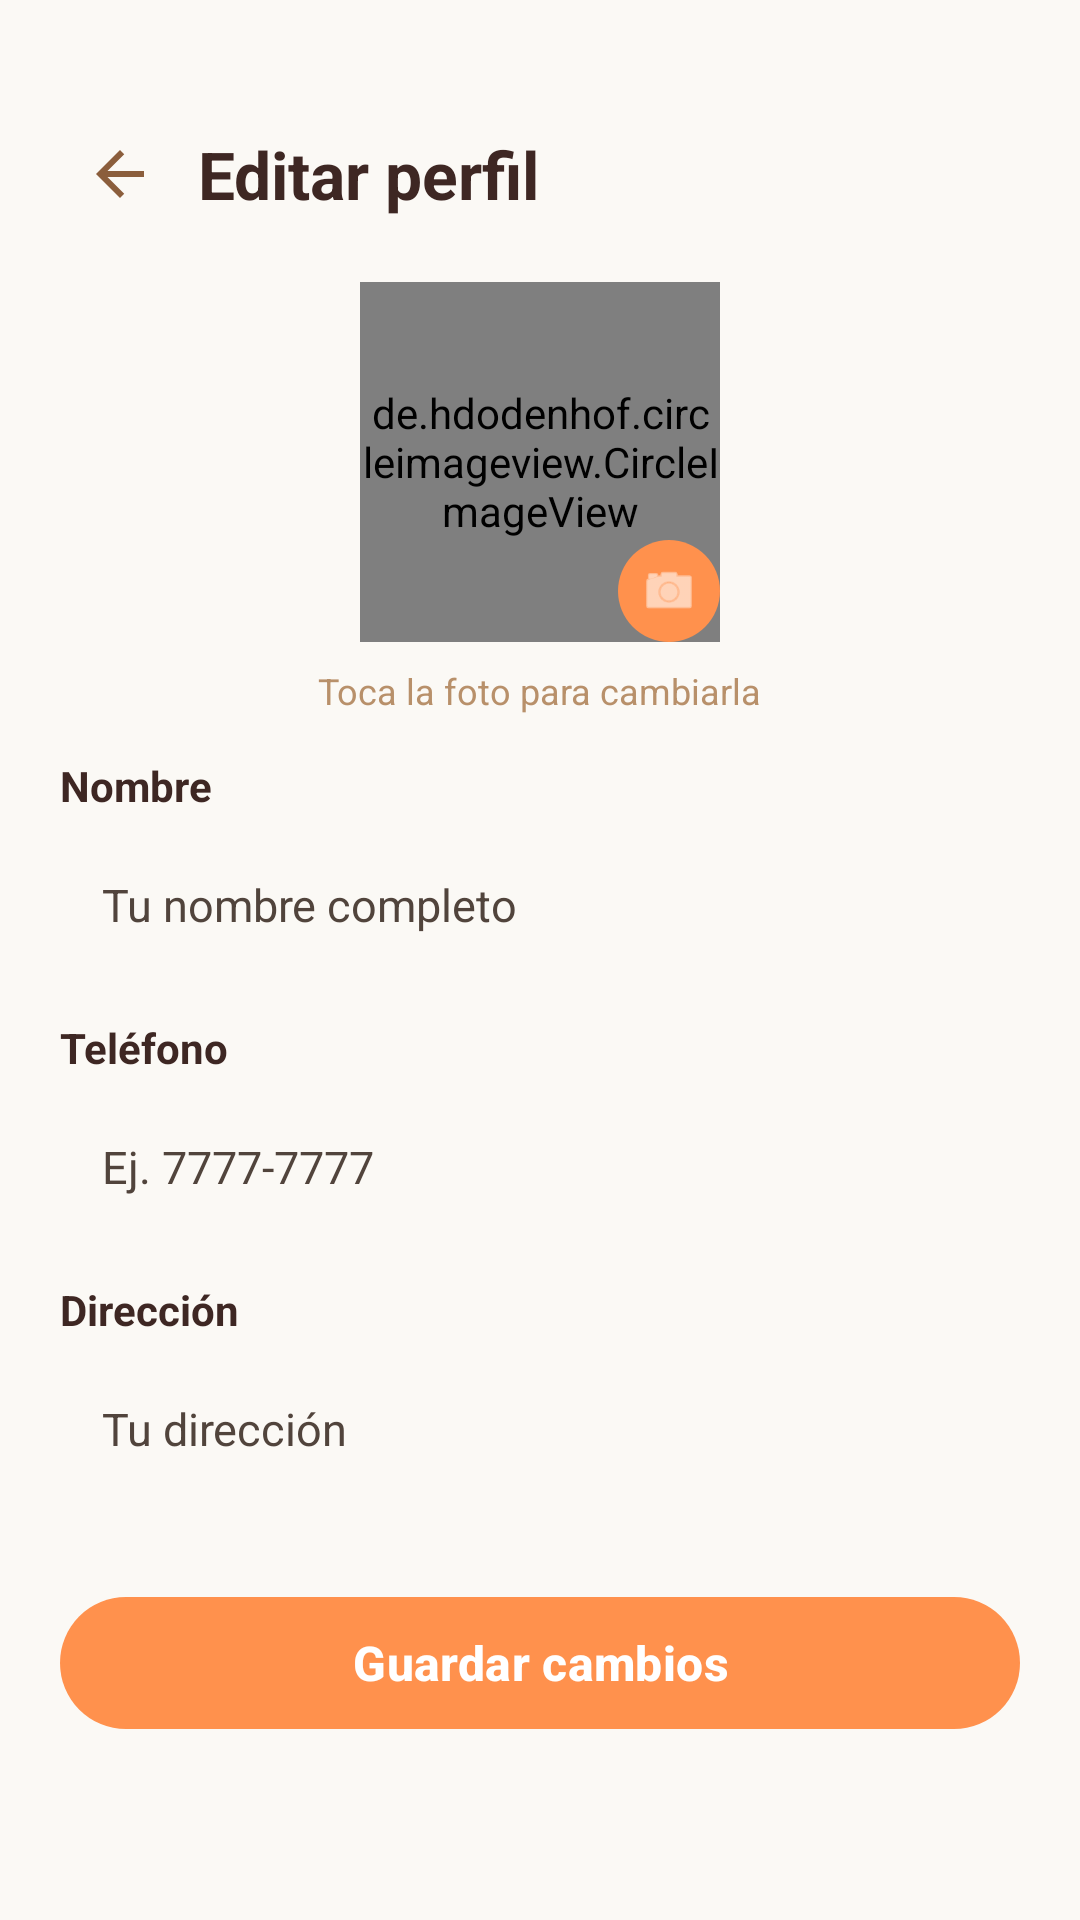

Named icons in this screenshot (1080x1920) and their centers, (x,y):
Cambiar foto: (669,591)
Volver: (120,174)
